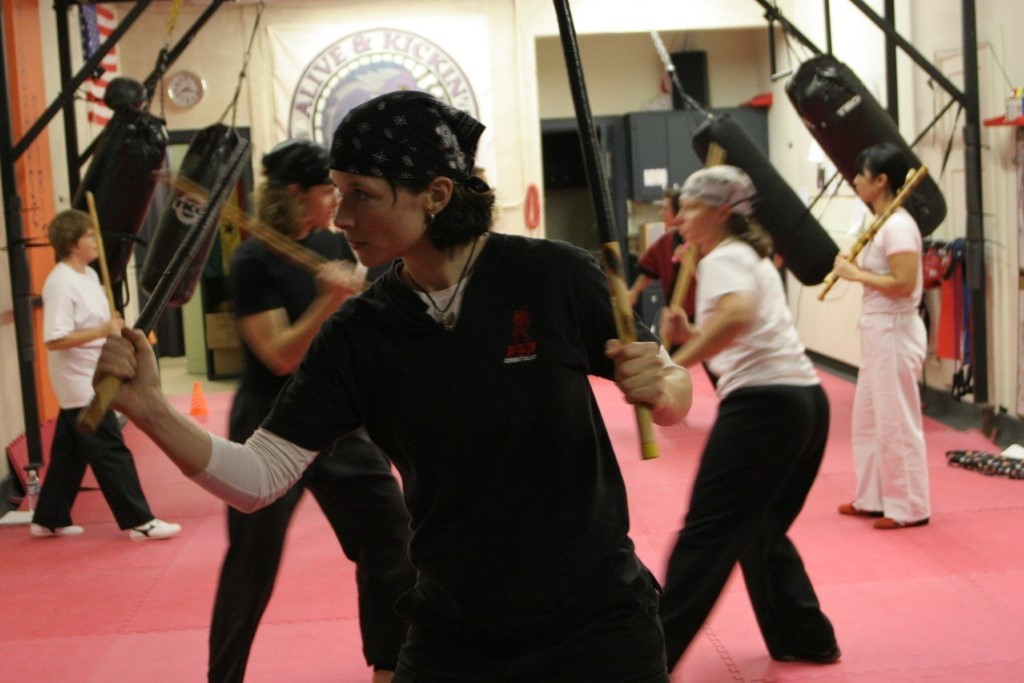baston_e: (552, 6, 658, 446), (93, 150, 249, 425), (161, 174, 366, 277), (821, 170, 920, 297), (670, 149, 722, 328), (85, 203, 114, 330)
baston_v: (630, 428, 666, 464), (71, 407, 101, 437), (233, 127, 260, 153), (703, 136, 728, 159), (148, 161, 164, 181), (78, 186, 98, 198), (815, 292, 826, 302), (920, 161, 929, 172)
